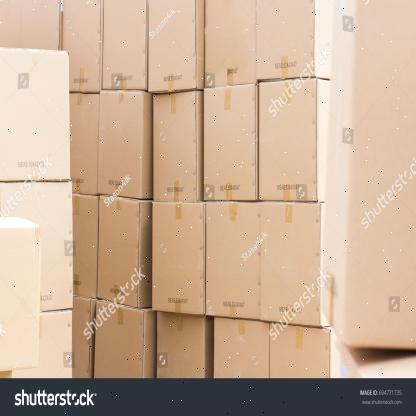box: (0, 51, 69, 179), (261, 200, 321, 324), (259, 77, 318, 202), (205, 200, 260, 319), (151, 199, 205, 316), (204, 86, 256, 202), (153, 90, 200, 201), (96, 90, 145, 196), (256, 0, 317, 76), (203, 0, 256, 86), (98, 197, 139, 304), (93, 300, 145, 383), (148, 0, 197, 87), (101, 0, 147, 91), (62, 0, 102, 90)
